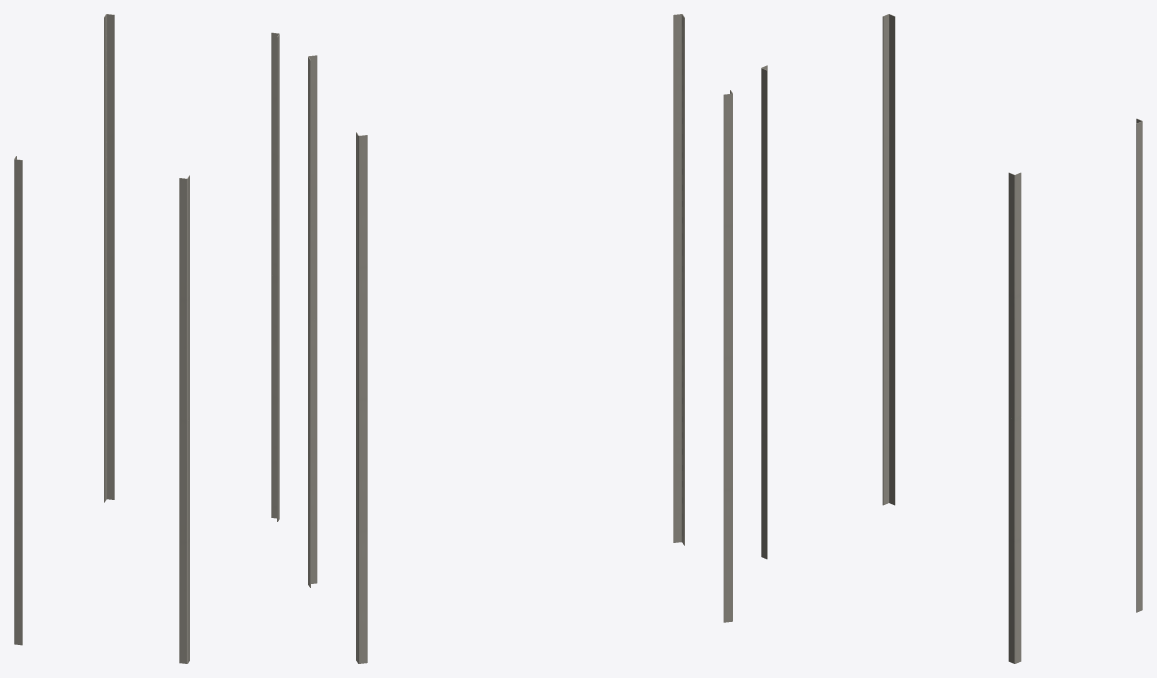
The model's file is shelf_0301_t50_h1200_w800.glb.
3 renders of one model, left to right at view 1: azimuth 30°, elevation 25°; view 2: azimuth 150°, elevation 25°; view 3: azimuth 270°, elevation 25°, orthographic. The views are drawn at different scales.
Visible parts, largest first — view 1: shelf_0301_t50_h1200_w800; view 2: shelf_0301_t50_h1200_w800; view 3: shelf_0301_t50_h1200_w800.
Boxes of the visible parts, x1,y1,x2,y2 form: shelf_0301_t50_h1200_w800: [14, 14, 279, 663]; shelf_0301_t50_h1200_w800: [308, 14, 732, 663]; shelf_0301_t50_h1200_w800: [761, 14, 1142, 663].
Bounding box in the file's own units: 0.8487 × 1.2 × 0.8487.
1 material, 1 textured.
